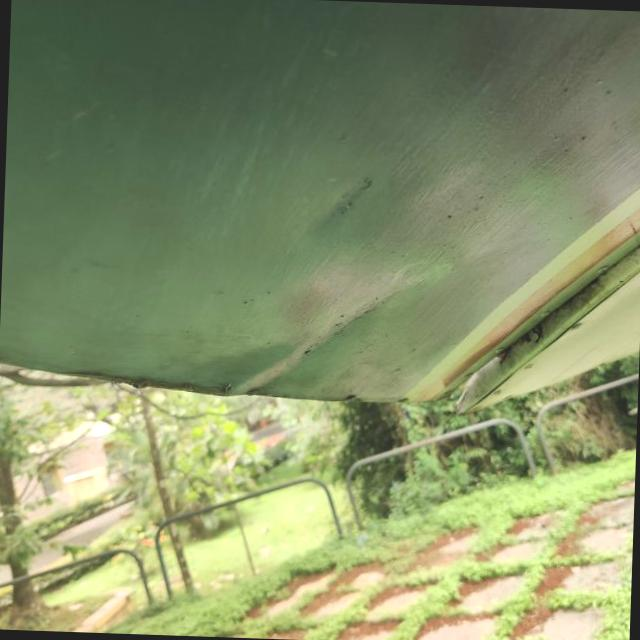dent: (198, 250, 444, 428), (288, 148, 396, 248)
